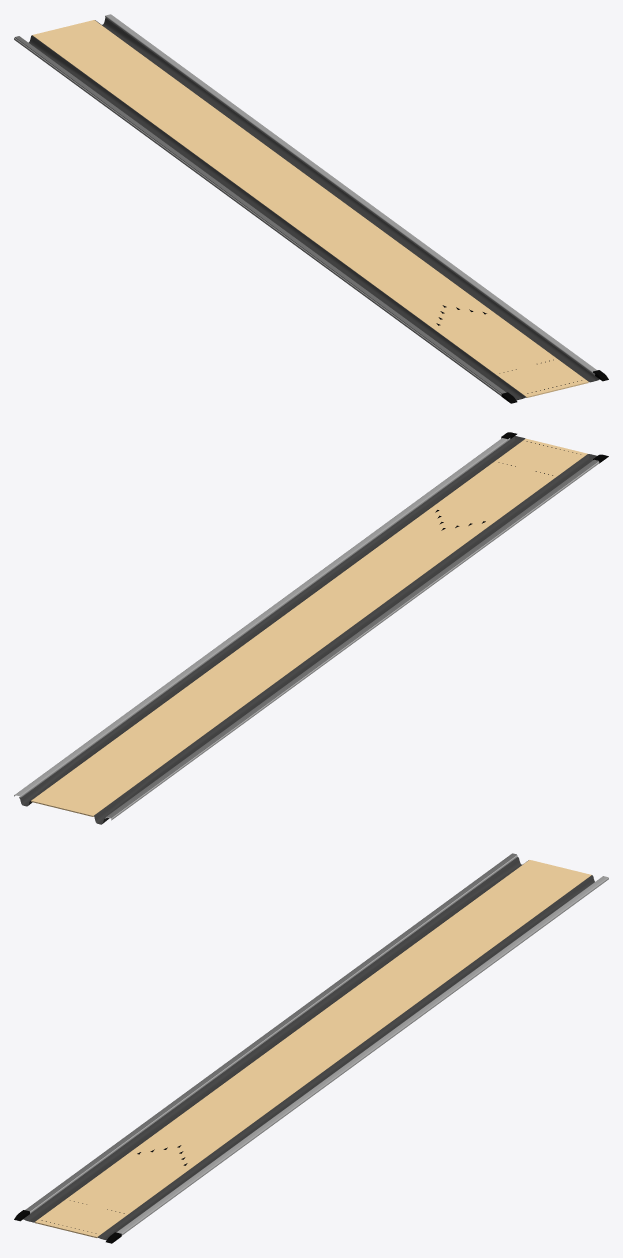
File: tracker.fbx
3 renders of one model, top to bottom at view 1: azimuth 30°, elevation 25°; view 2: azimuth 150°, elevation 25°; view 3: azimuth 330°, elevation 25°, orthographic.
Visible parts, largest first — view 1: Object032, Object035, Object036, Object038, Object037, Object039; view 2: Object032, Object035, Object036, Object038, Object037, Object039; view 3: Object032, Object036, Object035, Object038, Object037, Object039.
Part boxes in pixels (x1,y1,x2,y2): Object032: (32, 20, 588, 397); Object035: (95, 18, 599, 382); Object036: (28, 35, 526, 400); Object038: (105, 14, 596, 375); Object037: (15, 36, 505, 393); Object039: (14, 37, 501, 396); Object032: (31, 438, 587, 816); Object035: (19, 436, 525, 806); Object036: (94, 454, 596, 824); Object038: (14, 438, 510, 797); Object037: (106, 459, 598, 817); Object039: (105, 461, 599, 820); Object032: (35, 860, 591, 1237); Object036: (23, 857, 528, 1222); Object035: (97, 875, 594, 1240); Object038: (116, 876, 608, 1235); Object037: (25, 853, 516, 1211); Object039: (30, 855, 517, 1213).
Bounding box in the file's own units: 79.97 × 7.34 × 703.
